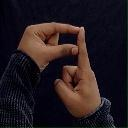hand: (52, 26, 101, 118), (16, 21, 81, 71)
